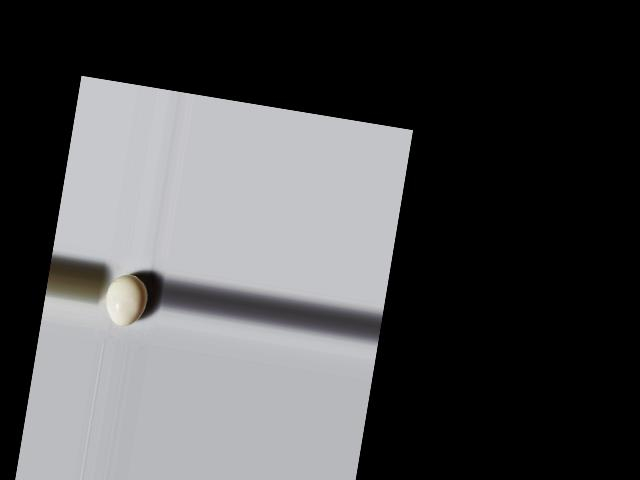egg: (102, 270, 151, 328)
